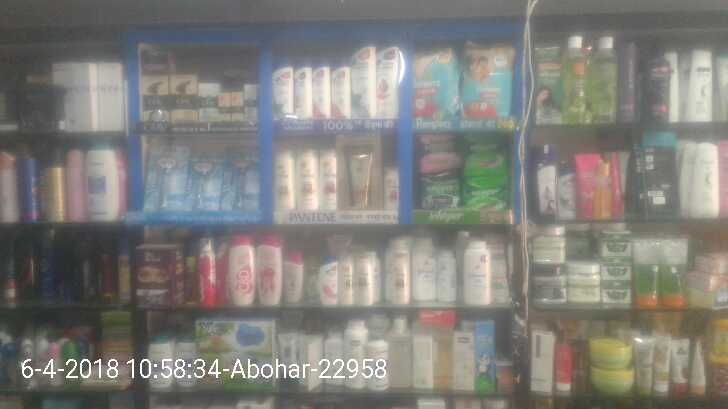venus: (145, 143, 184, 210), (224, 147, 258, 213), (189, 157, 219, 209)
